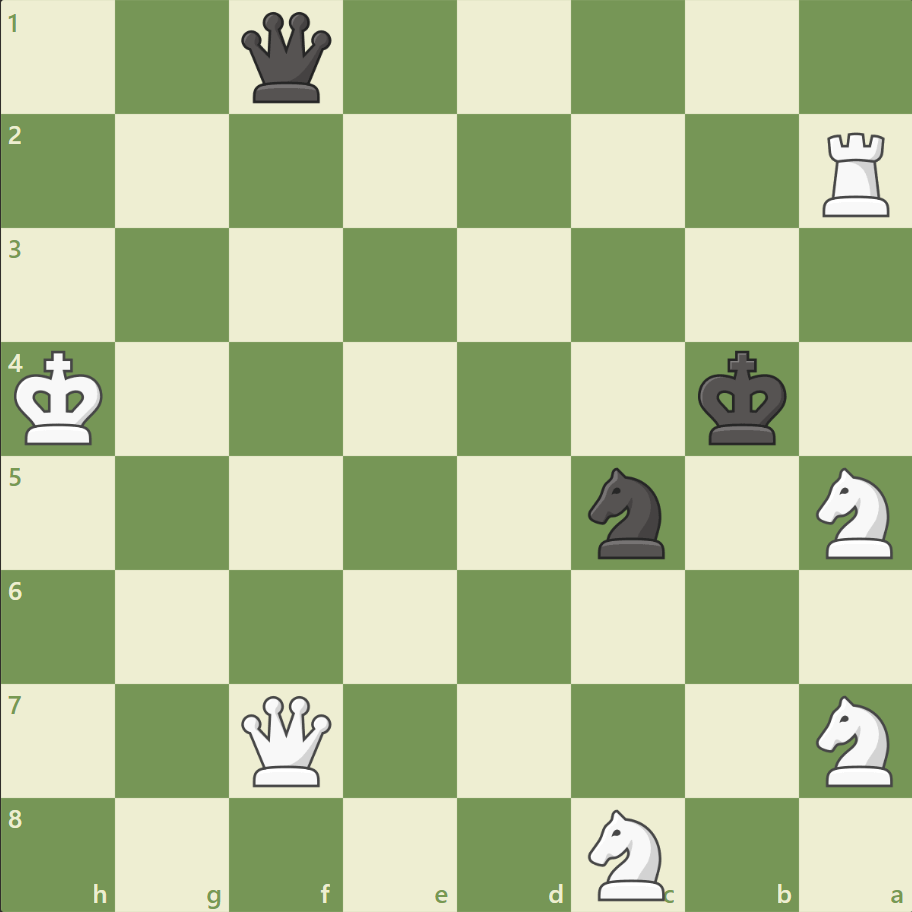K: (11, 344, 111, 452)
N: (806, 688, 903, 791), (806, 461, 903, 564), (579, 802, 676, 904)
Q: (237, 690, 336, 789)
R: (814, 125, 897, 222)
k: (692, 344, 792, 452)
n: (579, 461, 676, 564)
q: (237, 9, 336, 108)
